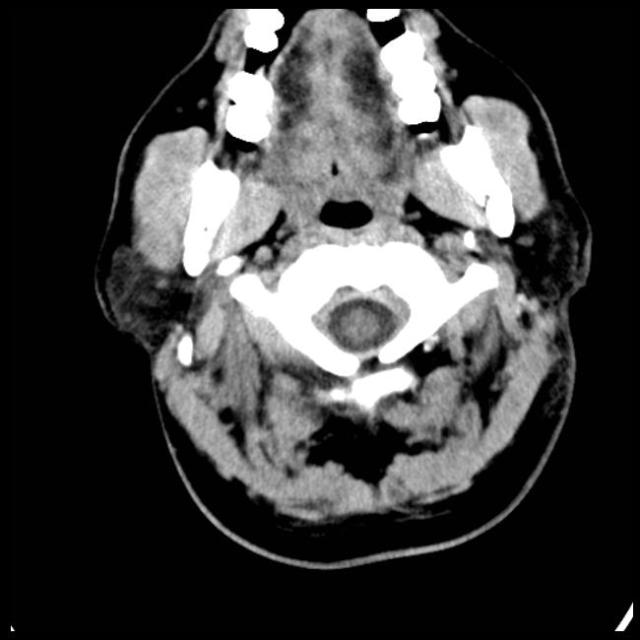lesion: (94, 5, 596, 552)
